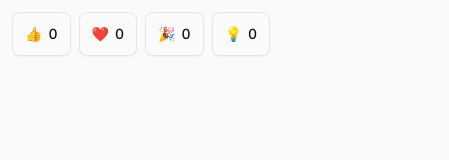
comment reaction controls › releases a hung write and ignores its eventual late success
The width and height of the screenshot is (449, 160).
What coordinates should you click on to do the following:
click the button named "Like: 0 reactions"
I would click on:
 (41, 34)
Its box is [12,12,70,56].
Wait 15001 ms
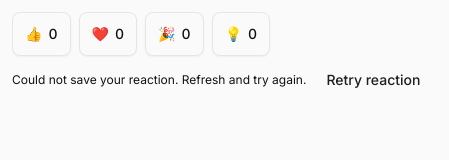
Now the button "Retry reaction" is enabled, box [314,64,432,96]
